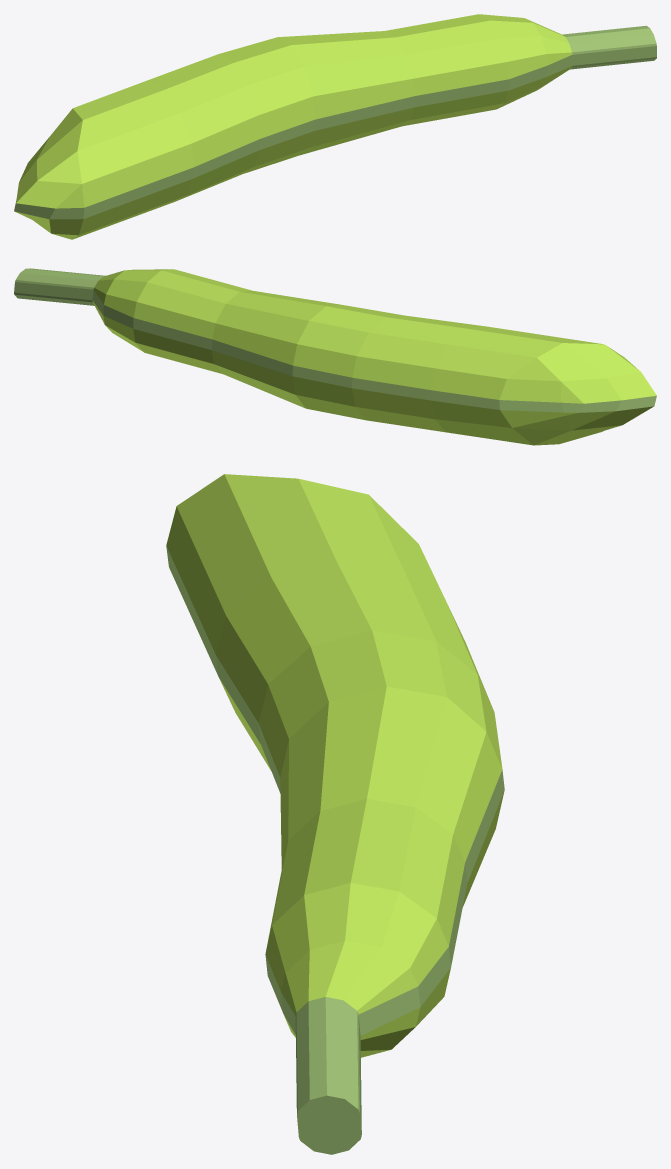
The model's file is Bean fruit.fbx.
3 renders of one model, top to bottom at view 1: azimuth 30°, elevation 25°; view 2: azimuth 150°, elevation 25°; view 3: azimuth 270°, elevation 25°, orthographic. The views are drawn at different scales.
Visible parts, largest first — view 1: Cylinder.016; view 2: Cylinder.016; view 3: Cylinder.016.
Boxes of the visible parts, left/top/right/bottom form: Cylinder.016: left=14, top=14, right=656, bottom=239; Cylinder.016: left=14, top=268, right=656, bottom=445; Cylinder.016: left=166, top=474, right=504, bottom=1154.
Size of the model in its own units: 240 by 37 by 57.63.
